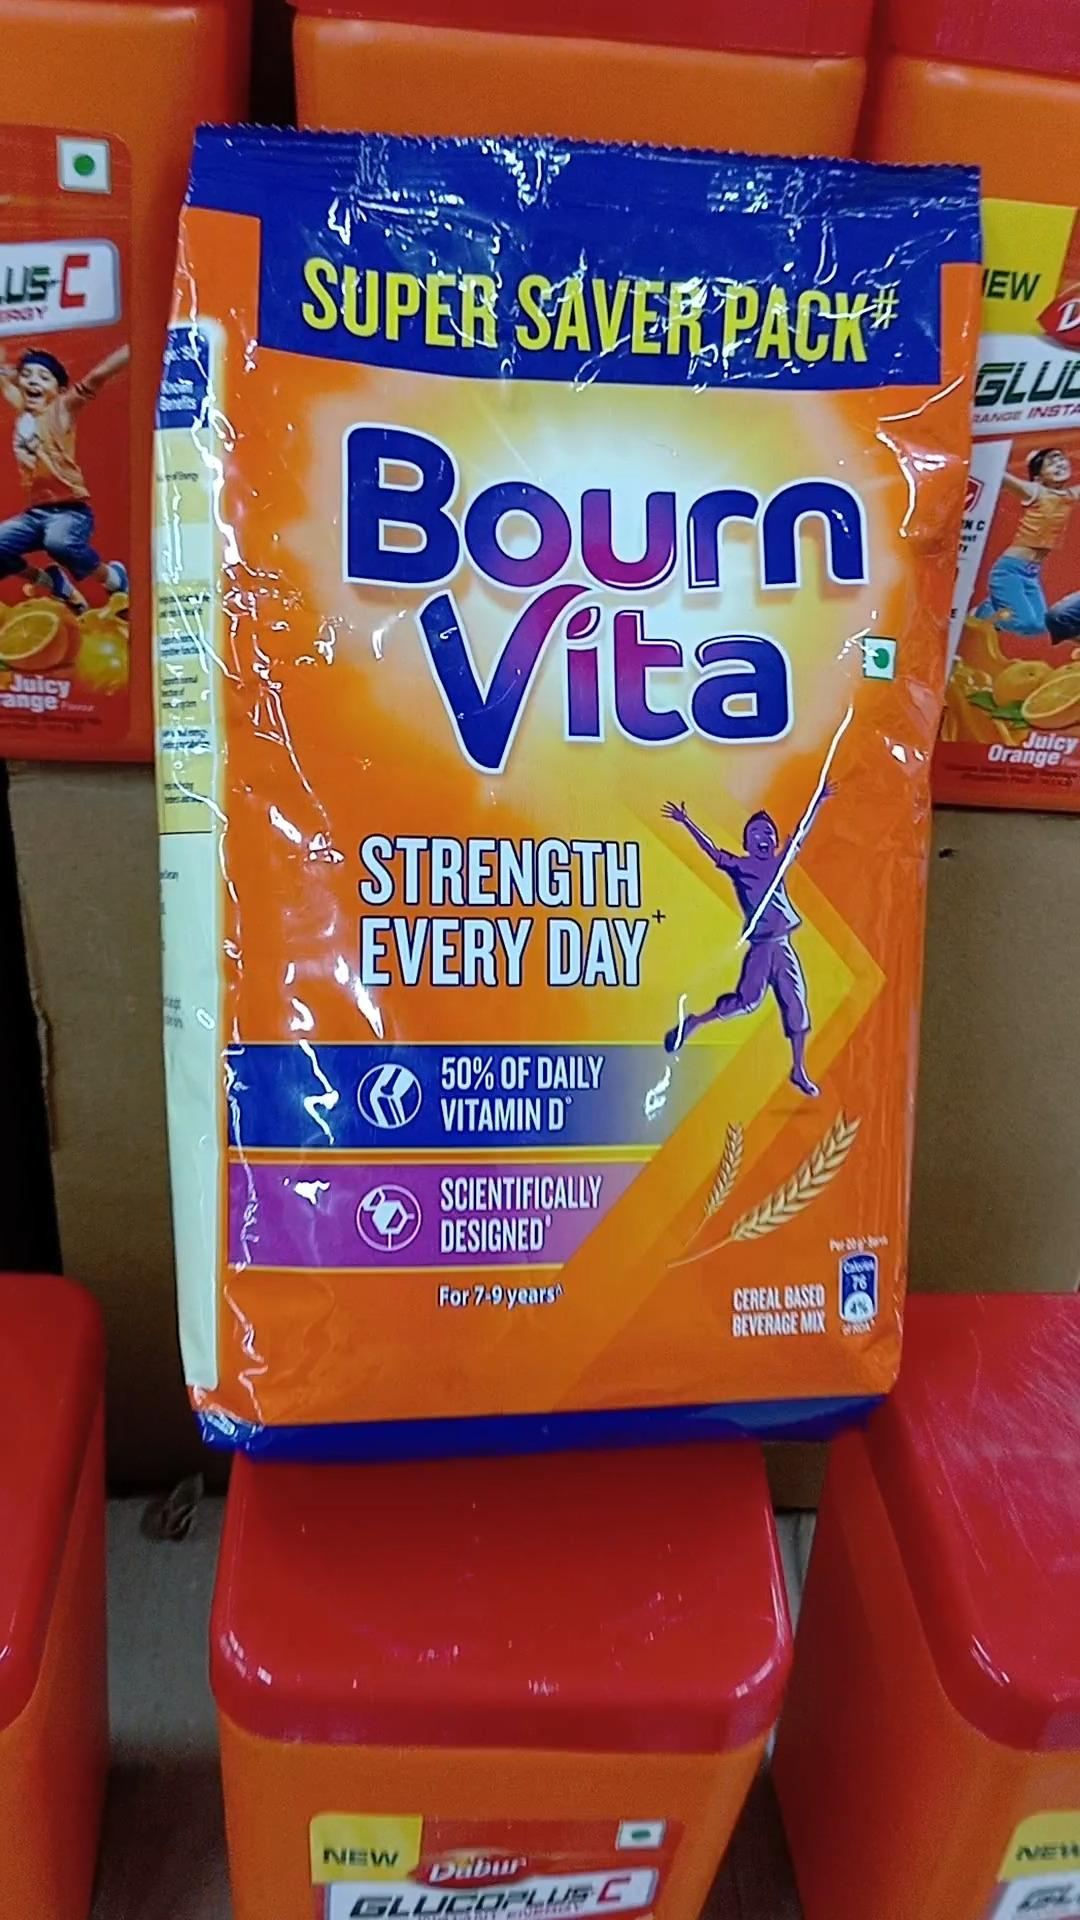BOURN_VITA_1_KG_POUCH: (141, 84, 956, 1432)
